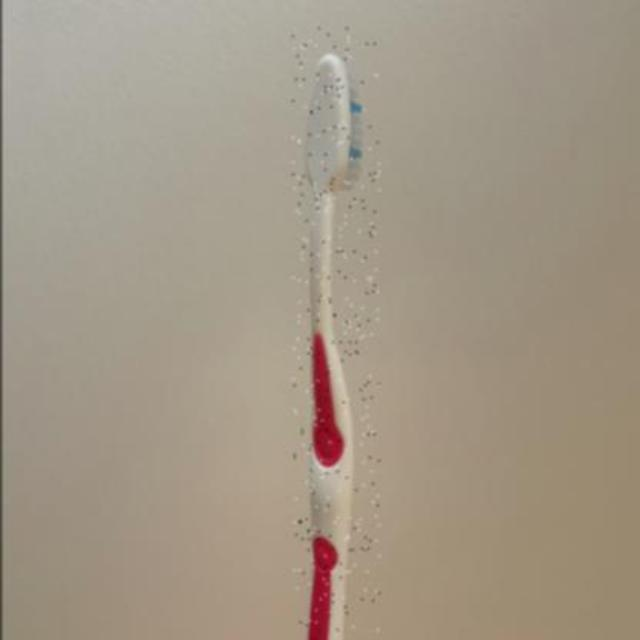toothbrush: (292, 28, 378, 640)
